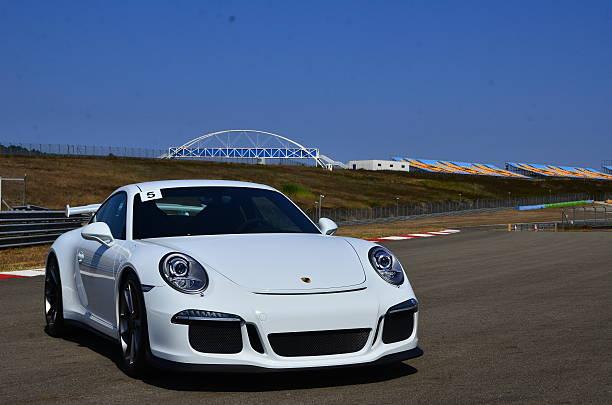porsche: (298, 275, 315, 286)
